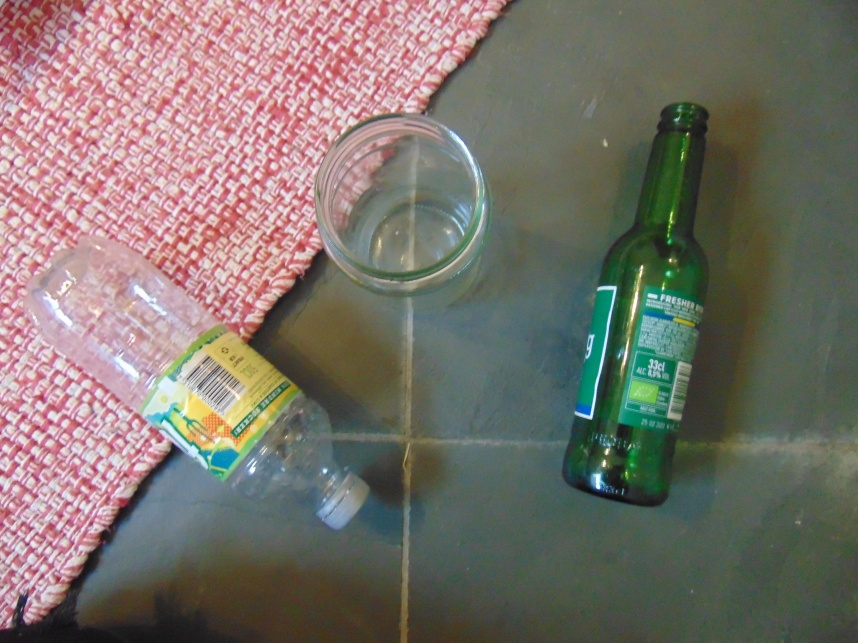glass_bottle: (562, 101, 712, 512), (316, 112, 489, 298)
plastic_bottle: (29, 235, 370, 530)
